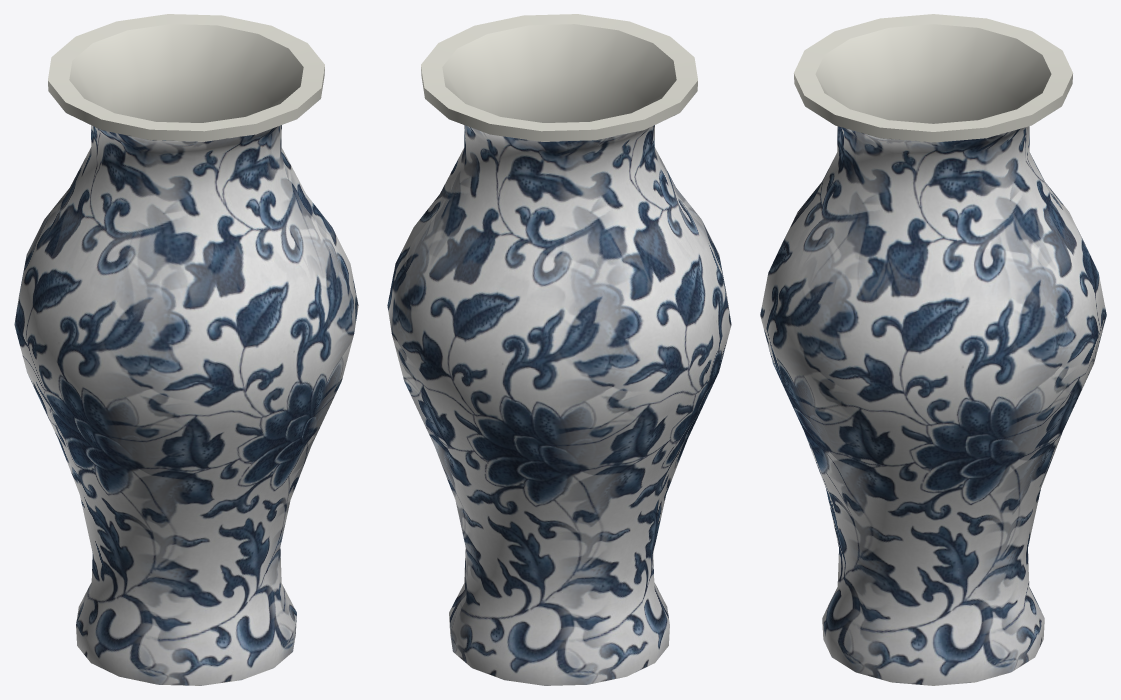
Rendered from vase2_lp.FBX.
The picture shows the model from 3 angles, left to right: view 1: azimuth 30°, elevation 25°; view 2: azimuth 150°, elevation 25°; view 3: azimuth 270°, elevation 25°; orthographic projection.
Parts seen in each view (by area): view 1: vase2; view 2: vase2; view 3: vase2.
Part boxes in pixels (left/top/right/bottom): vase2: left=14, top=14, right=358, bottom=685; vase2: left=387, top=14, right=731, bottom=685; vase2: left=760, top=14, right=1106, bottom=685.
Size of the model in its own units: 49.95 by 90.06 by 49.95.
1 material, 1 textured.
